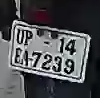1: (57, 34, 65, 53)
2: (42, 52, 52, 72)
3: (51, 54, 63, 74)
4: (66, 36, 77, 57)
7: (31, 50, 41, 70)
9: (63, 57, 76, 79)
A: (21, 49, 30, 67)
E: (13, 46, 24, 67)
P: (24, 29, 34, 48)
U: (16, 26, 25, 46)
